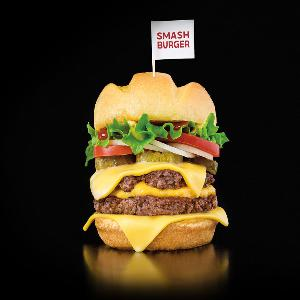cheeseburger: (86, 66, 236, 255)
